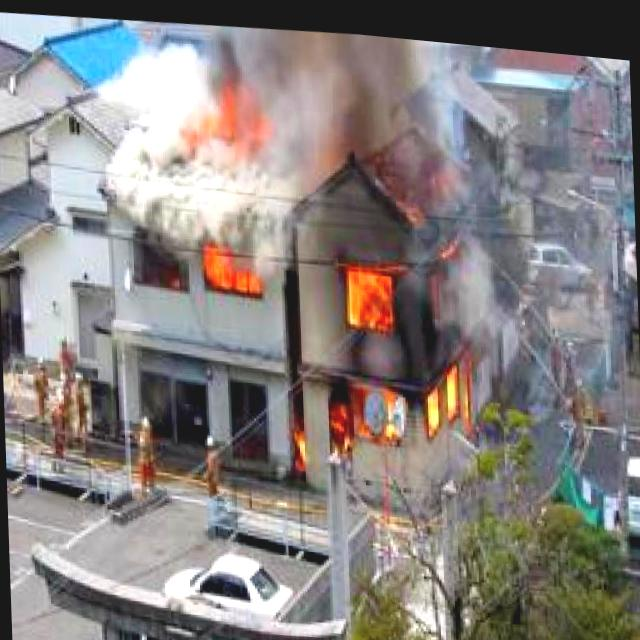helmet: (322, 219, 474, 460), (185, 62, 282, 157), (198, 242, 268, 296)
no_helmet: (101, 8, 419, 237)
